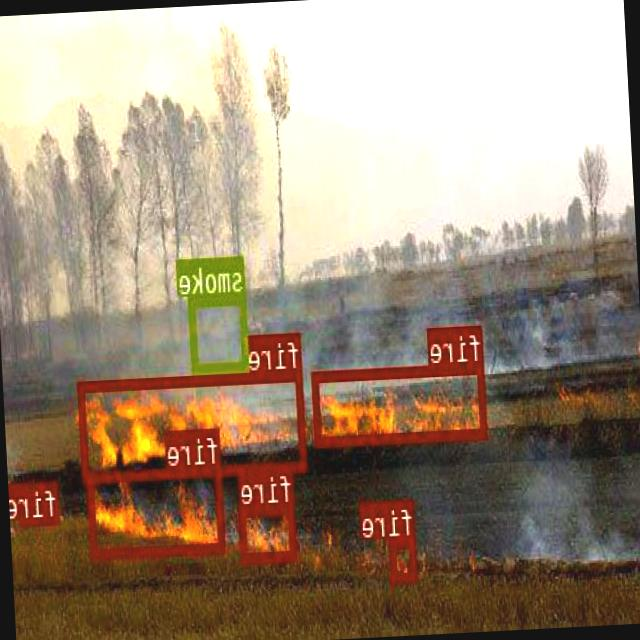fire: (80, 368, 309, 480), (314, 362, 488, 444), (88, 463, 226, 557), (240, 502, 298, 560), (20, 478, 60, 526), (390, 537, 420, 581)
smoke: (190, 292, 251, 372)
